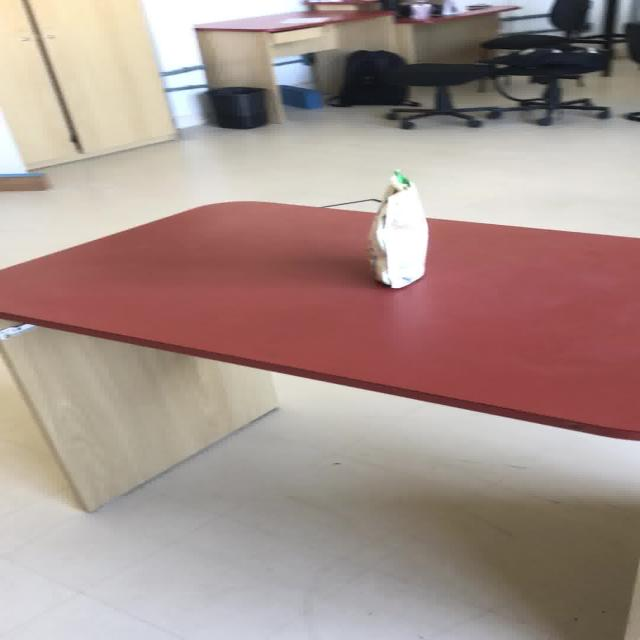corn flakes: (365, 168, 429, 289)
